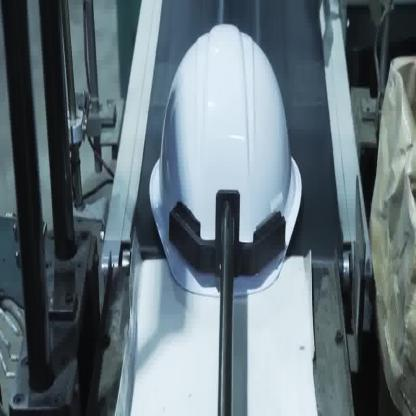helmet: (147, 20, 302, 302)
